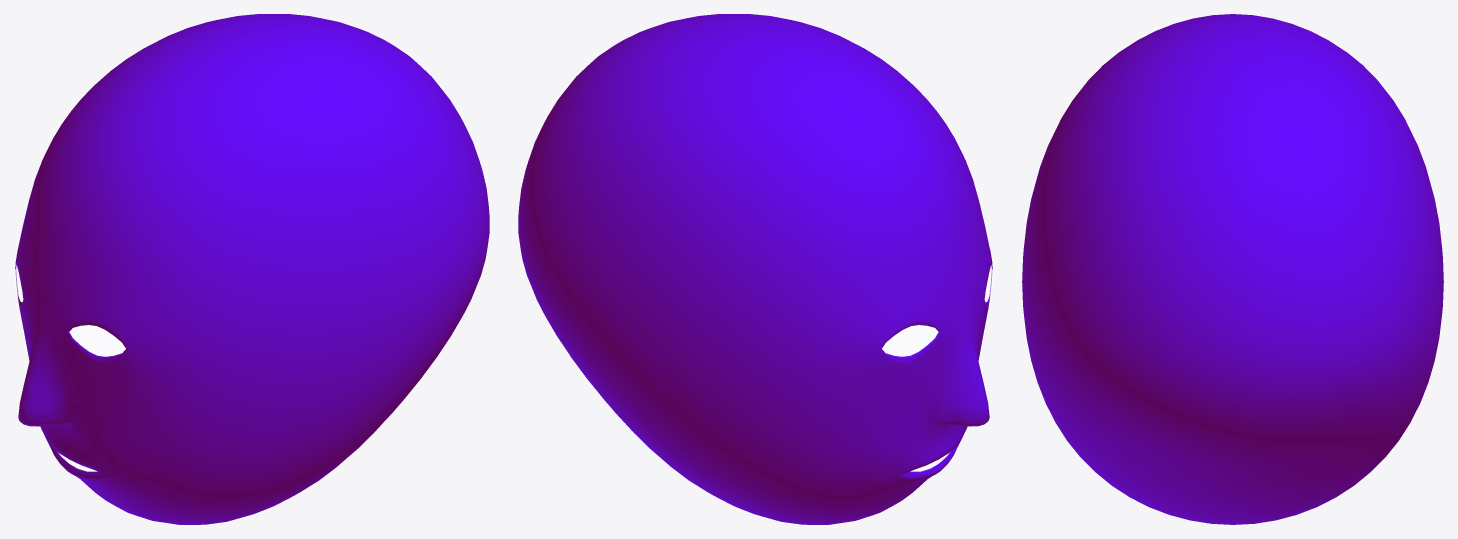
File: morph_practice_-_private_horror.glb
3 views of the same model, side by side, from view 1: azimuth 30°, elevation 25°; view 2: azimuth 150°, elevation 25°; view 3: azimuth 270°, elevation 25° (orthographic). The views are drawn at different scales.
Parts seen in each view (by area): view 1: Box001, Object001_01 - Default_0; view 2: Box001, Object001_01 - Default_0; view 3: Box001.
Boxes of the visible parts, x1,y1,x2,y2 form: Box001: (15,14,489,524); Object001_01 - Default_0: (14,265,125,471); Box001: (518,14,992,524); Object001_01 - Default_0: (882,265,993,471); Box001: (1022,14,1443,524).
Size of the model in its own units: 0.3422 by 0.3386 by 0.2606.
